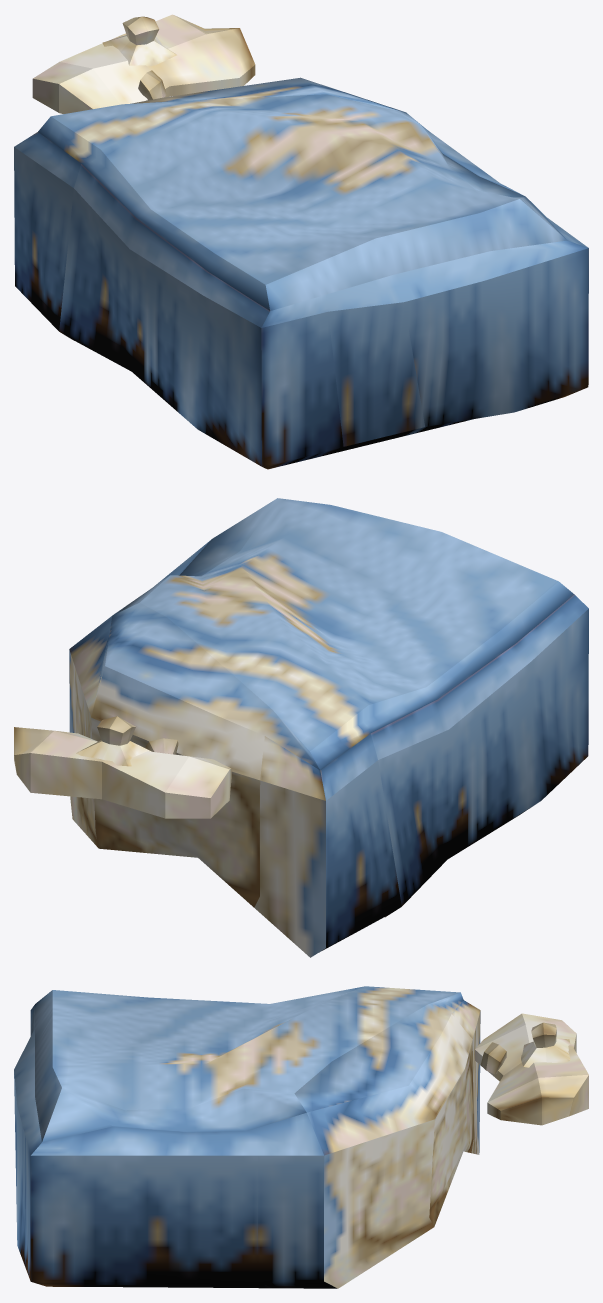
Rendered from Inside_Poly_Bed_01_Blanket_03.obj.
The picture shows the model from 3 angles, top to bottom: view 1: azimuth 30°, elevation 25°; view 2: azimuth 150°, elevation 25°; view 3: azimuth 270°, elevation 25°; orthographic projection. The views are drawn at different scales.
Parts seen in each view (by area): view 1: Cube.003, Cube.004; view 2: Cube.003, Cube.004; view 3: Cube.003, Cube.004.
Boxes of the visible parts, box(x1,y1,x2,y2) form: Cube.003: box(14, 77, 588, 469); Cube.004: box(32, 14, 255, 113); Cube.003: box(69, 498, 588, 957); Cube.004: box(14, 716, 231, 818); Cube.003: box(14, 986, 480, 1288); Cube.004: box(475, 1013, 588, 1125).
Bounding box in the file's own units: 1.05 × 0.6461 × 1.69.
1 material, 1 textured.
